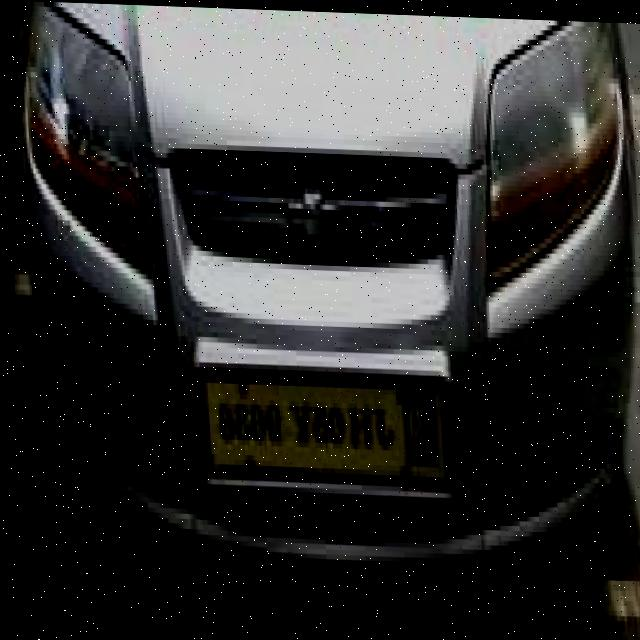plate: (197, 369, 399, 479)
